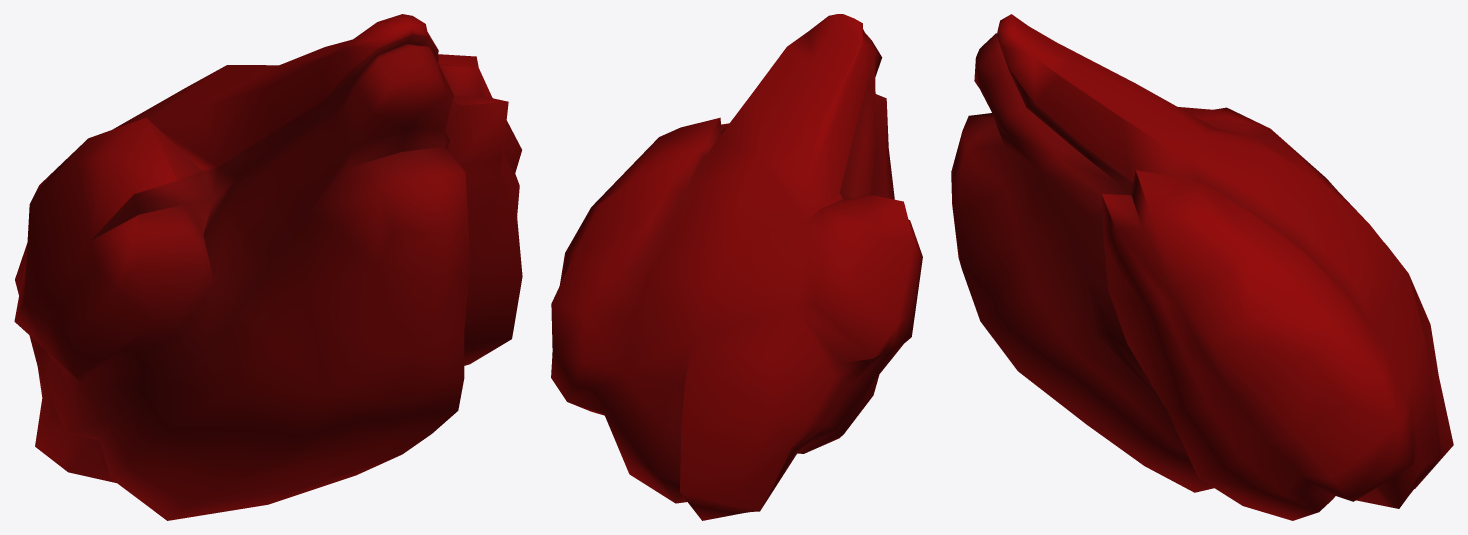
Rendered from geology-rocks-slantedrock_v1.fbx.
The picture shows the model from 3 angles, left to right: view 1: azimuth 30°, elevation 25°; view 2: azimuth 150°, elevation 25°; view 3: azimuth 270°, elevation 25°; orthographic projection. The views are drawn at different scales.
Visible parts, largest first — view 1: SlantedRock_v1; view 2: SlantedRock_v1; view 3: SlantedRock_v1.
Boxes of the visible parts, x1,y1,x2,y2 form: SlantedRock_v1: (14,14,522,520); SlantedRock_v1: (551,14,922,520); SlantedRock_v1: (951,14,1453,520).
Bounding box in the file's own units: 11.95 × 14.42 × 13.39.
